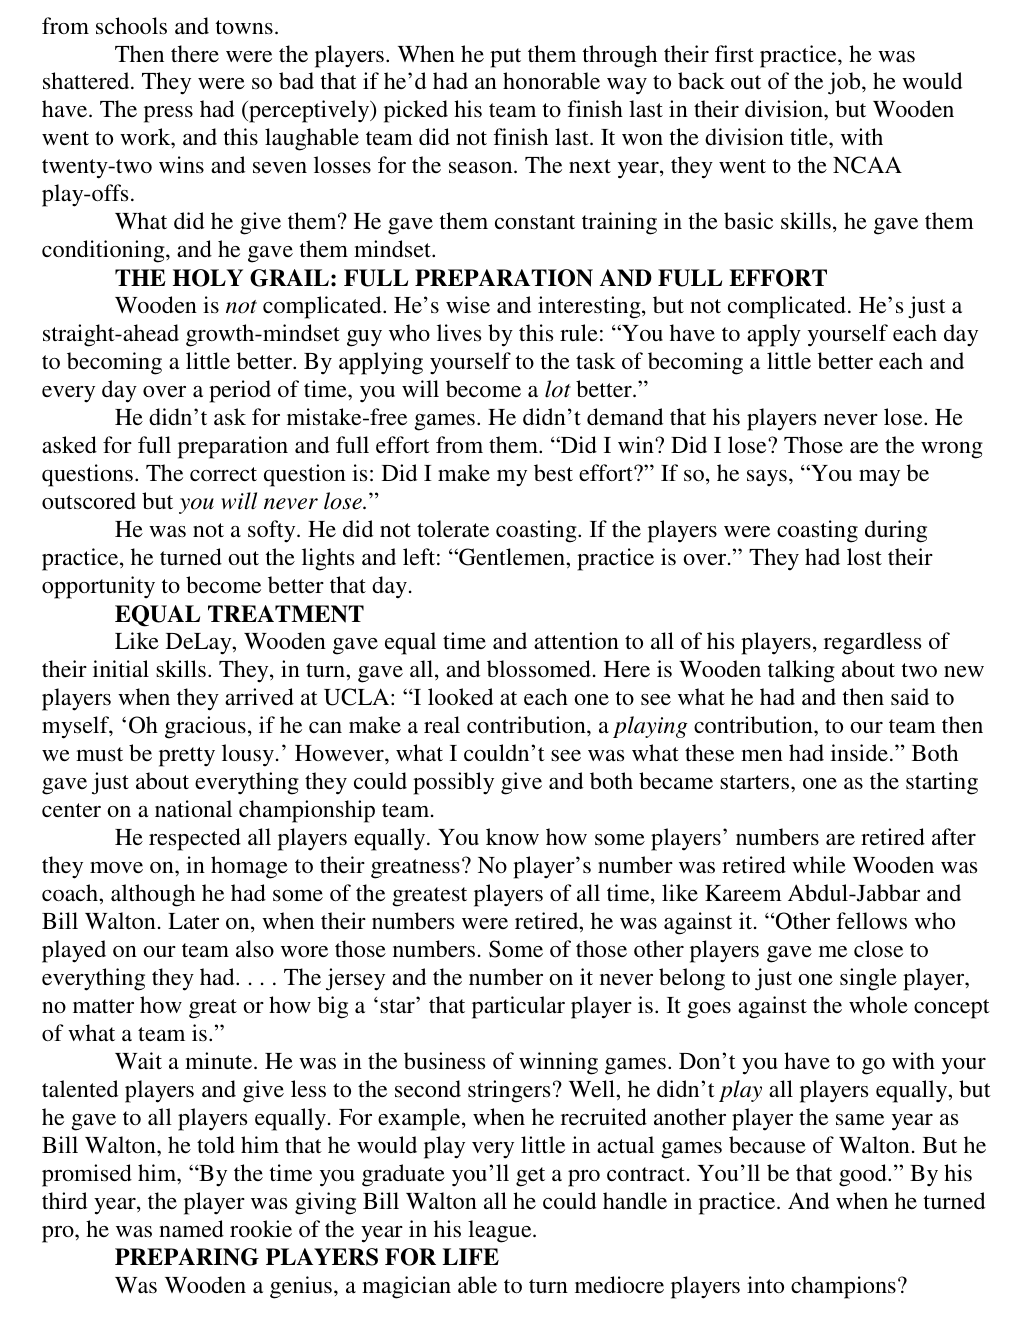latin: (34, 257, 986, 602), (35, 1045, 992, 1304), (38, 12, 978, 259), (31, 603, 989, 827), (28, 825, 998, 1043)
